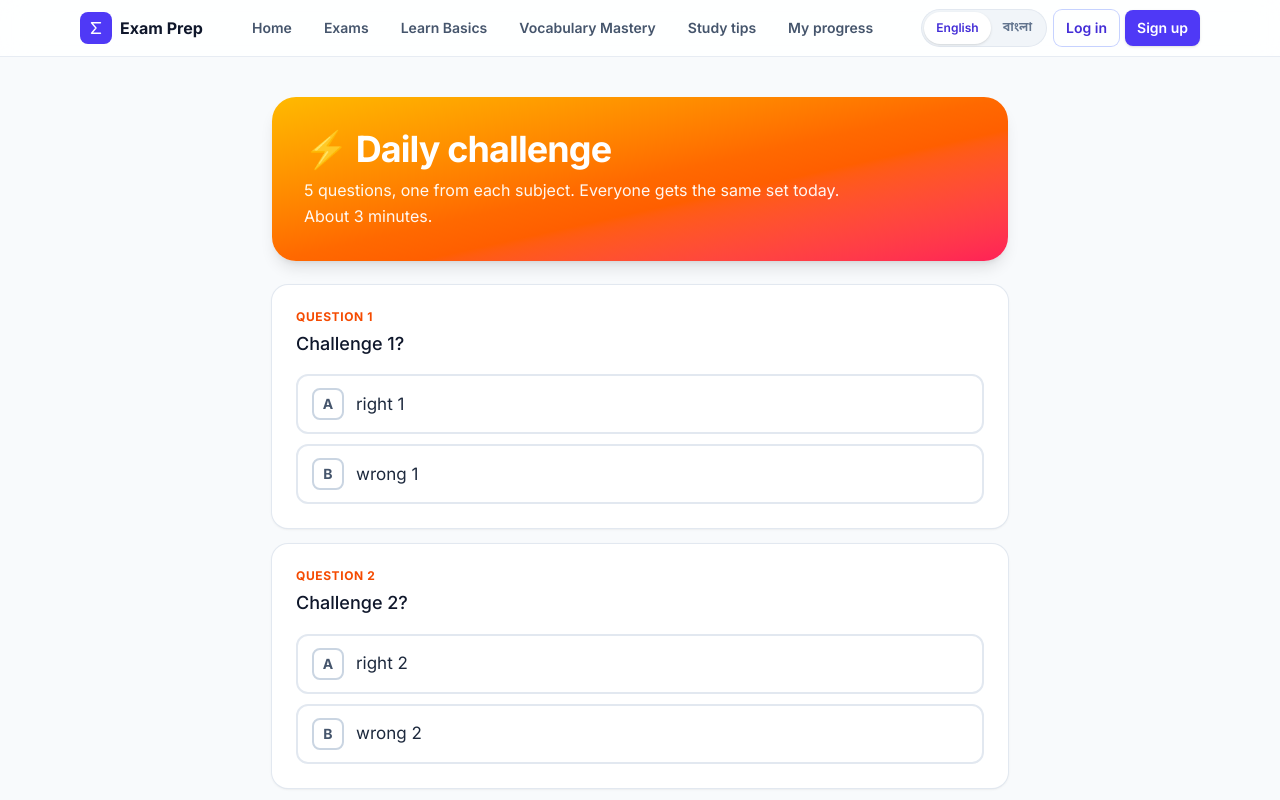
Test: mastery map, weak patterns, challenge, leaderboard › daily challenge: answer, submit, see score and explanations; playable signed out
The image size is (1280, 800).
Check: the text "Challenge 1?" is shown, box left=296, top=333, right=404, bottom=354
Click the radio button labelled "A right 1" at (328, 404), box left=296, top=374, right=984, bottom=434
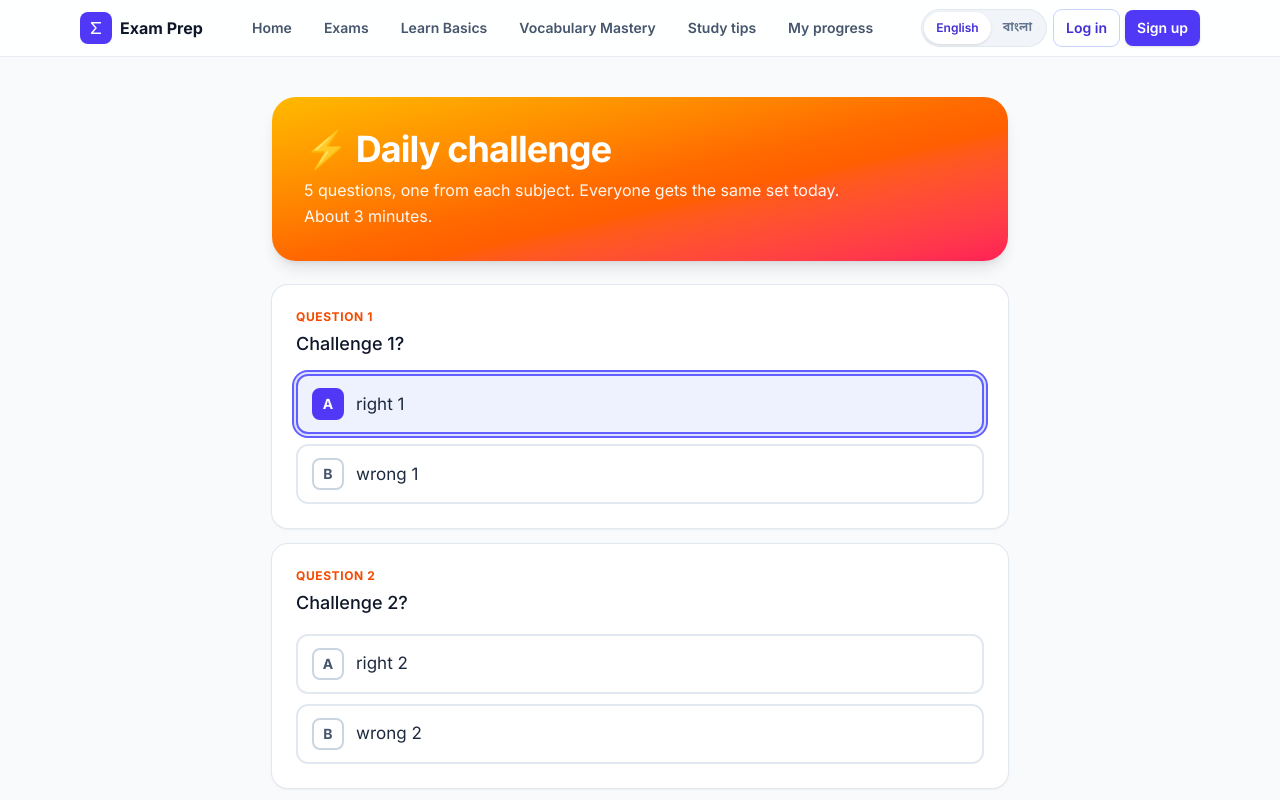
Click the radio button labelled "B wrong 2" at (328, 734), box left=296, top=704, right=984, bottom=764
(page scrolled)
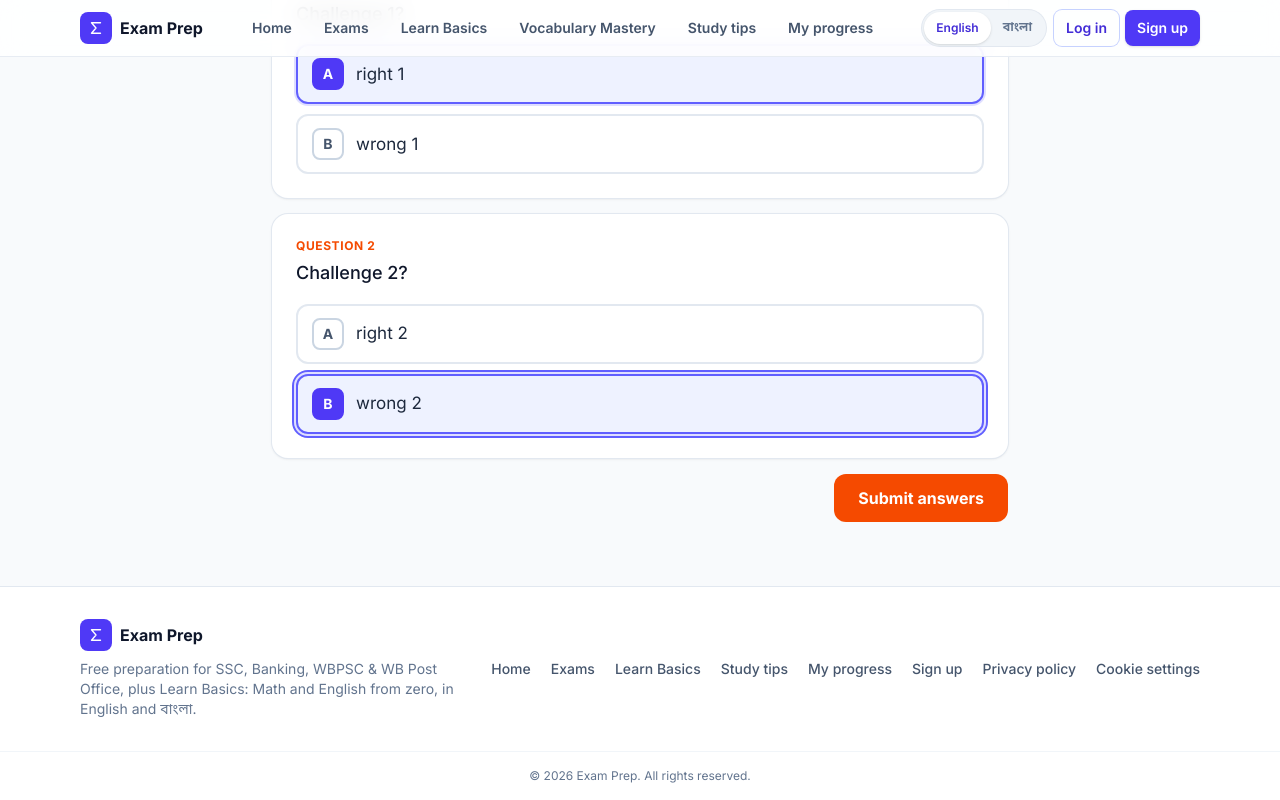
Click the button "Submit answers" at (921, 498), box left=834, top=474, right=1008, bottom=522
(page scrolled)
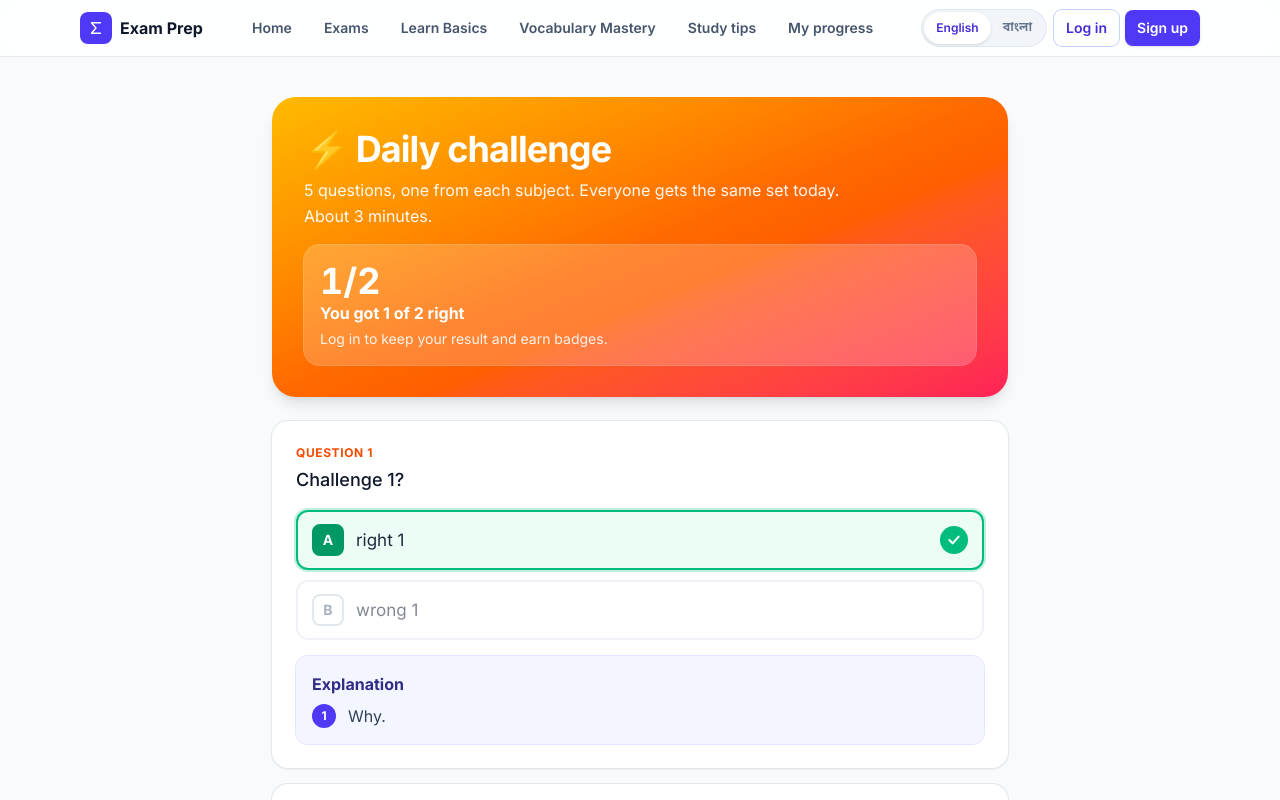
Check: the text "You got 1 of 2 right" is shown, box left=320, top=303, right=464, bottom=323
Check: the text "Why." is shown 2 times
Check: the text "Log in to keep your result and earn badges." is shown, box left=320, top=330, right=608, bottom=347
